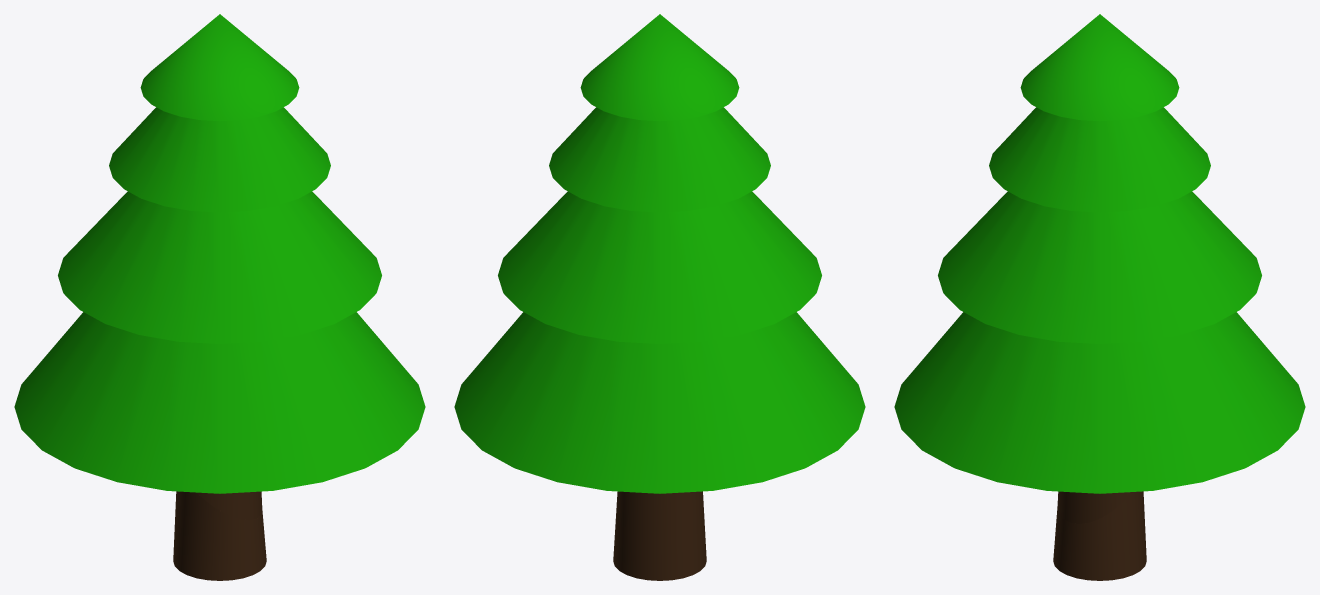
File: CUT TREE.fbx
The picture shows the model from 3 angles, left to right: view 1: azimuth 30°, elevation 25°; view 2: azimuth 150°, elevation 25°; view 3: azimuth 270°, elevation 25°; orthographic projection.
Visible parts, largest first — view 1: Cylinder.002, Cylinder.004; view 2: Cylinder.002, Cylinder.004; view 3: Cylinder.002, Cylinder.004.
Part boxes in pixels (bbox=[...]): Cylinder.002: bbox=[14, 14, 425, 520]; Cylinder.004: bbox=[173, 491, 266, 580]; Cylinder.002: bbox=[454, 14, 865, 493]; Cylinder.004: bbox=[613, 491, 706, 580]; Cylinder.002: bbox=[894, 14, 1305, 523]; Cylinder.004: bbox=[1053, 491, 1146, 580].
Bounding box in the file's own units: 1086 × 1595 × 1086.
